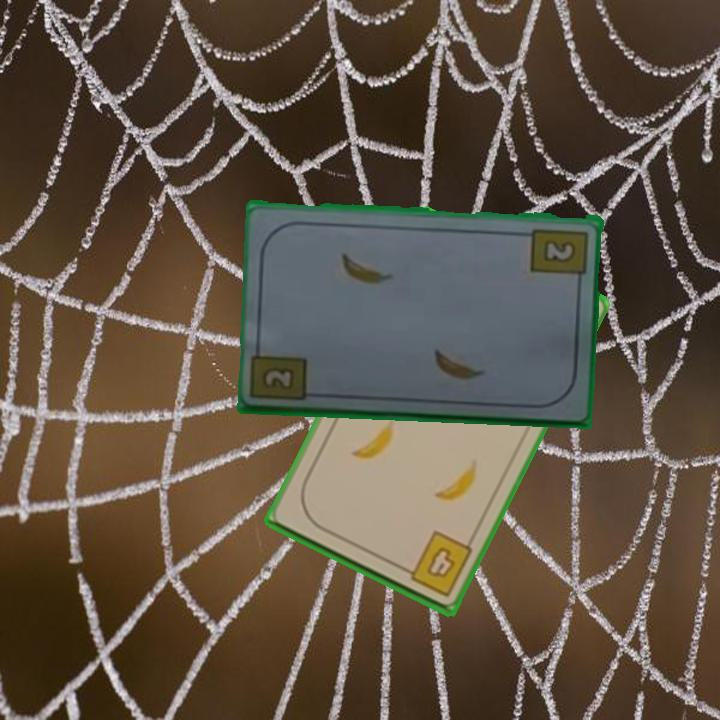2b: (528, 225, 591, 287), (262, 364, 298, 393)
4b: (395, 527, 475, 599)
